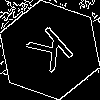K: (25, 25, 83, 82)
